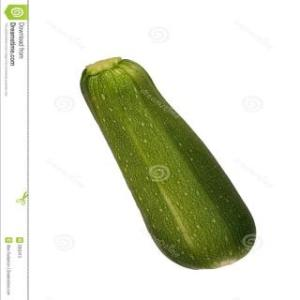zucchini: (76, 55, 268, 283)
